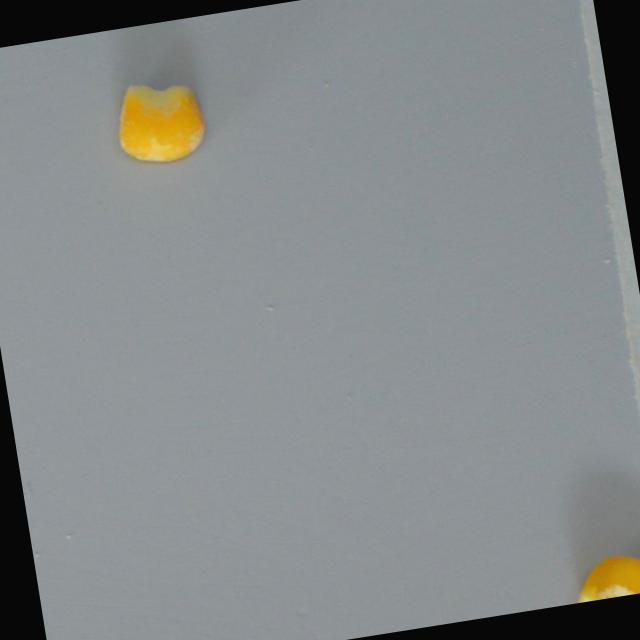no_canjicado: (570, 550, 640, 603)
pelicula: (111, 74, 210, 169)
